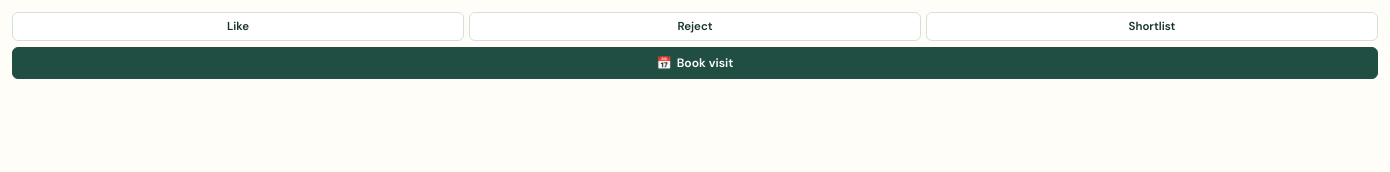
Test: prevents rapid duplicate feedback submission
Click the button "Like" at [238, 26], box [12, 12, 464, 41]
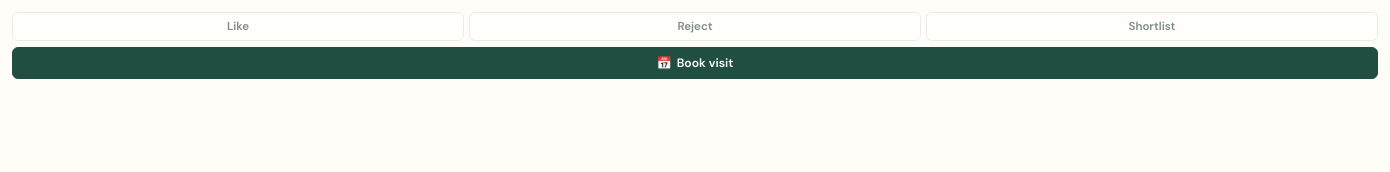
Click the button "Like" at [238, 26], box [12, 12, 464, 41]
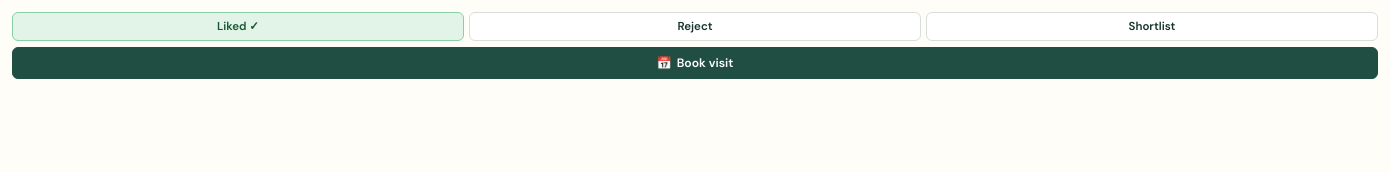
Expected: the button "Liked ✓" is shown, [12, 12, 464, 41]
